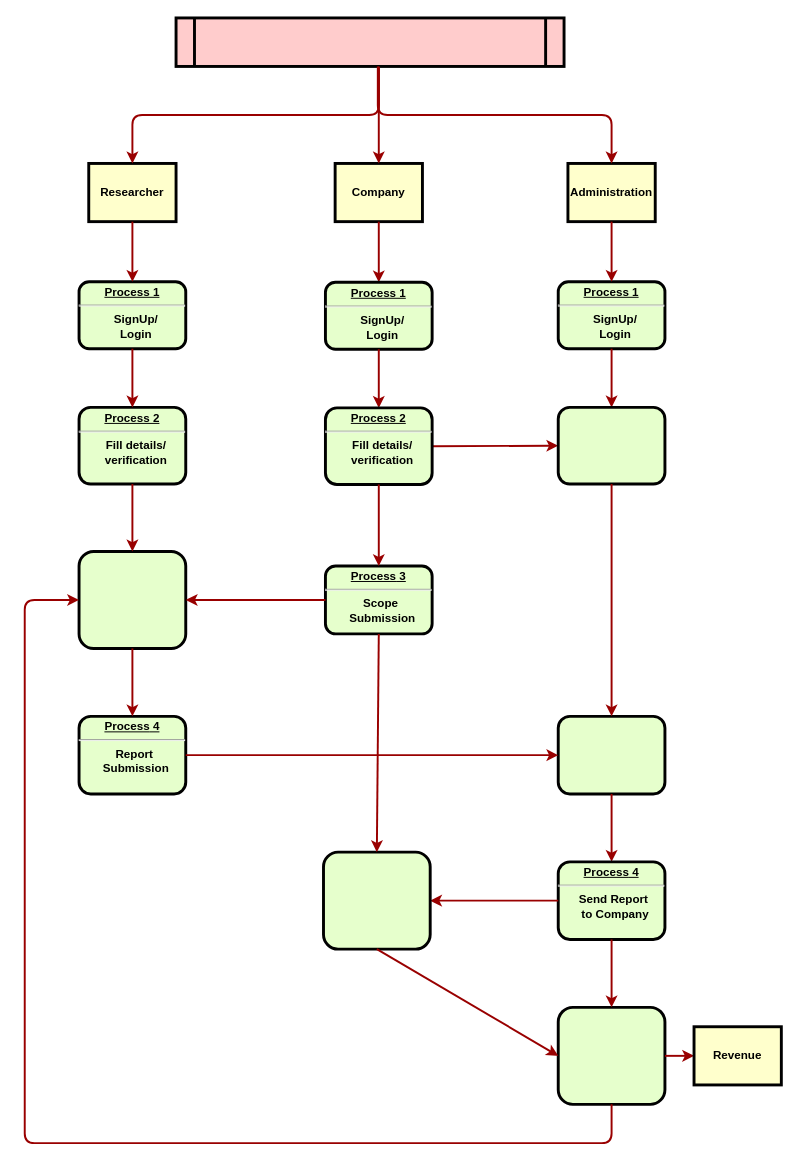
This 799x1169 diagram has some shape labels left out. Here are the shapes that lost their labels. From the top down, the centre of each, then its label:
At point (369, 41): "CybHunter Platform".
At point (611, 445): "Process 2 Details Verification".
At point (132, 599): "Process 3 Program Selection Filters in dashboard".
At point (611, 754): "Process 3 Report Verification".
At point (376, 900): "Process 4 Review report and pay bounty".
At point (611, 1055): "Process 5 Send Money to Researcher and update dashboard".
